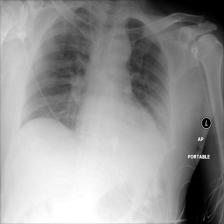normal: (17, 4, 174, 148)
